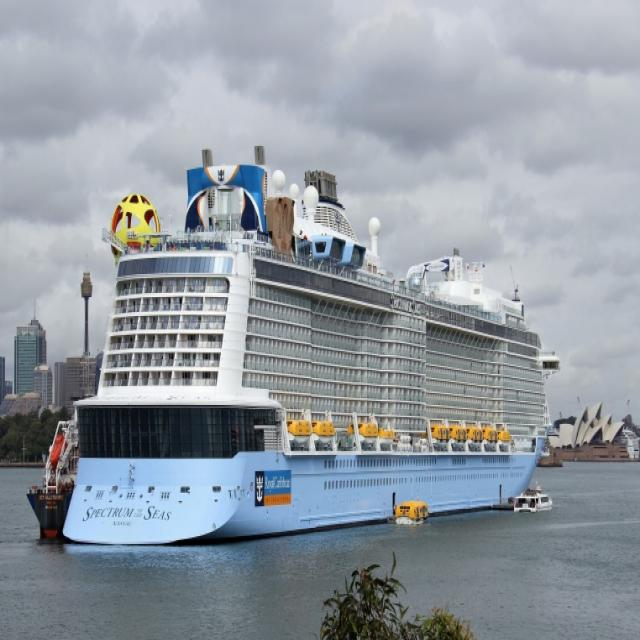cruises: (66, 144, 565, 560)
